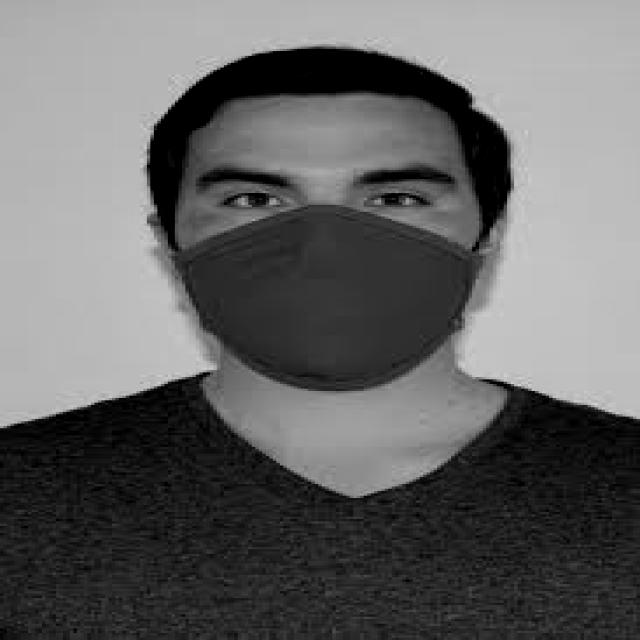fake: (172, 204, 484, 392)
real: (177, 100, 482, 396)
